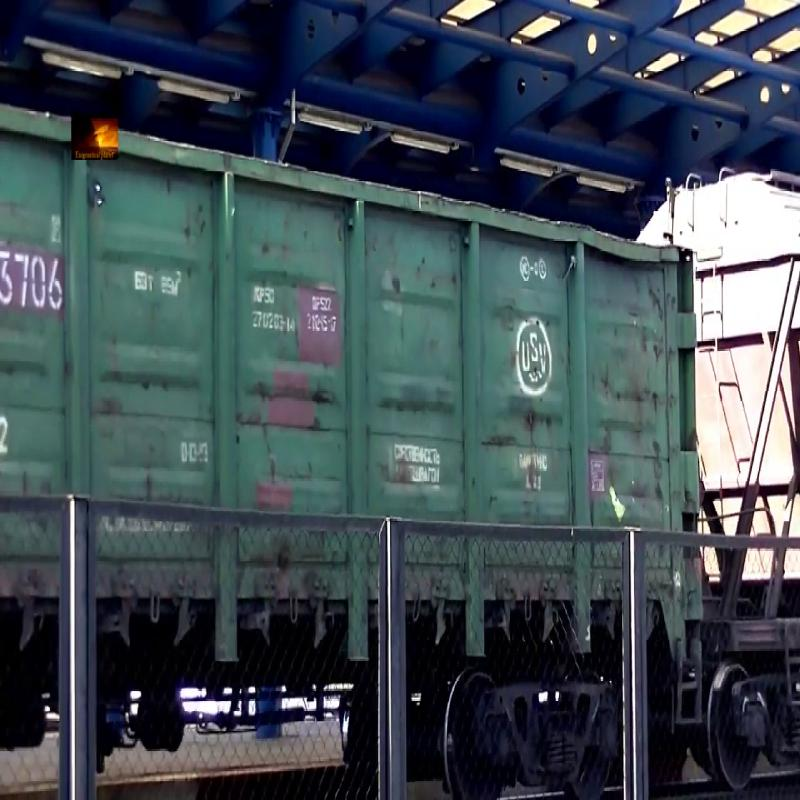train: (2, 13, 722, 758), (744, 4, 800, 752)
